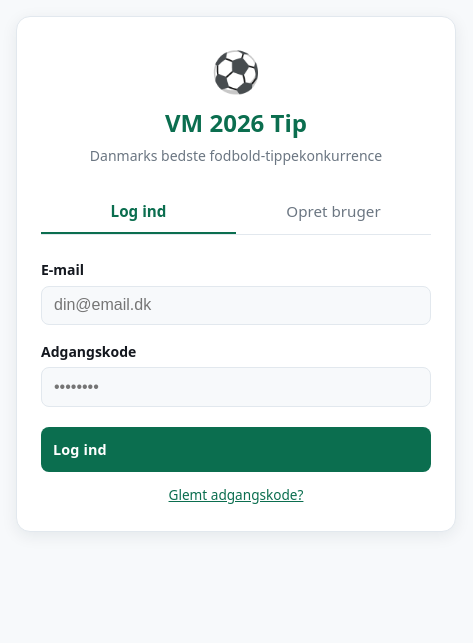
it: LoginPage › skifter til Opret bruger-formular ved klik på fane
The image size is (473, 643).
Step 1. Click the button "Opret bruger" → [334, 212], box [236,190,431,234]
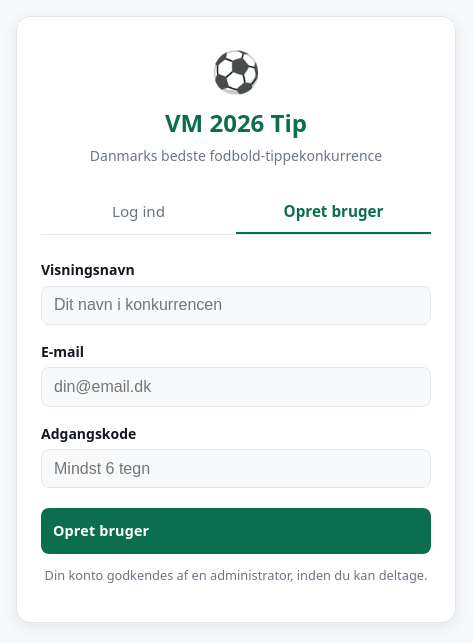
Check: the field labelled "Visningsnavn" is shown, box [41,286,431,325]
